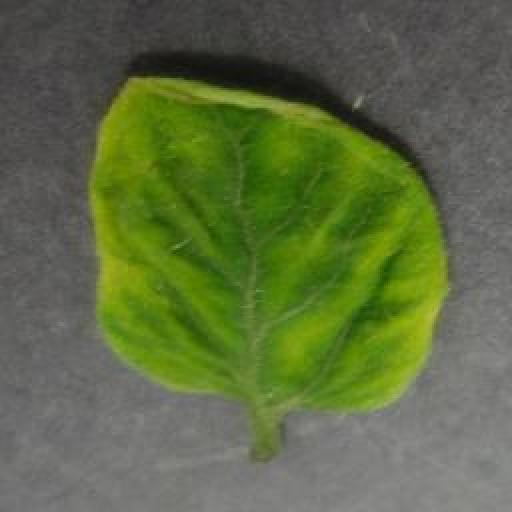disease_tomato: (94, 75, 454, 412)
